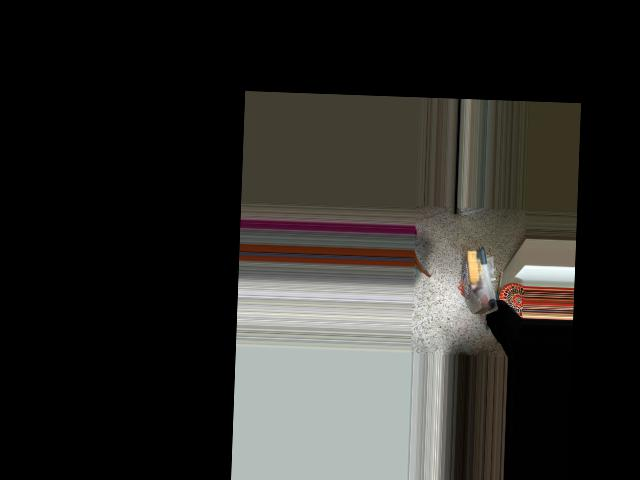cheese: (458, 246, 502, 314)
